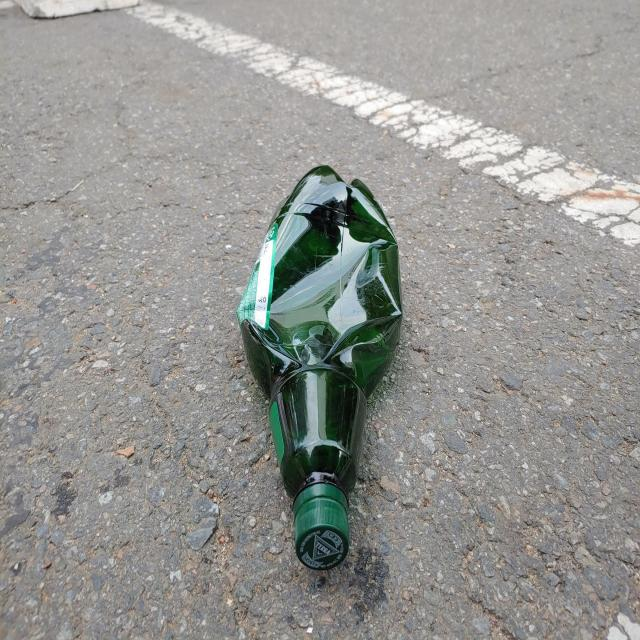plastic: (237, 165, 403, 571)
